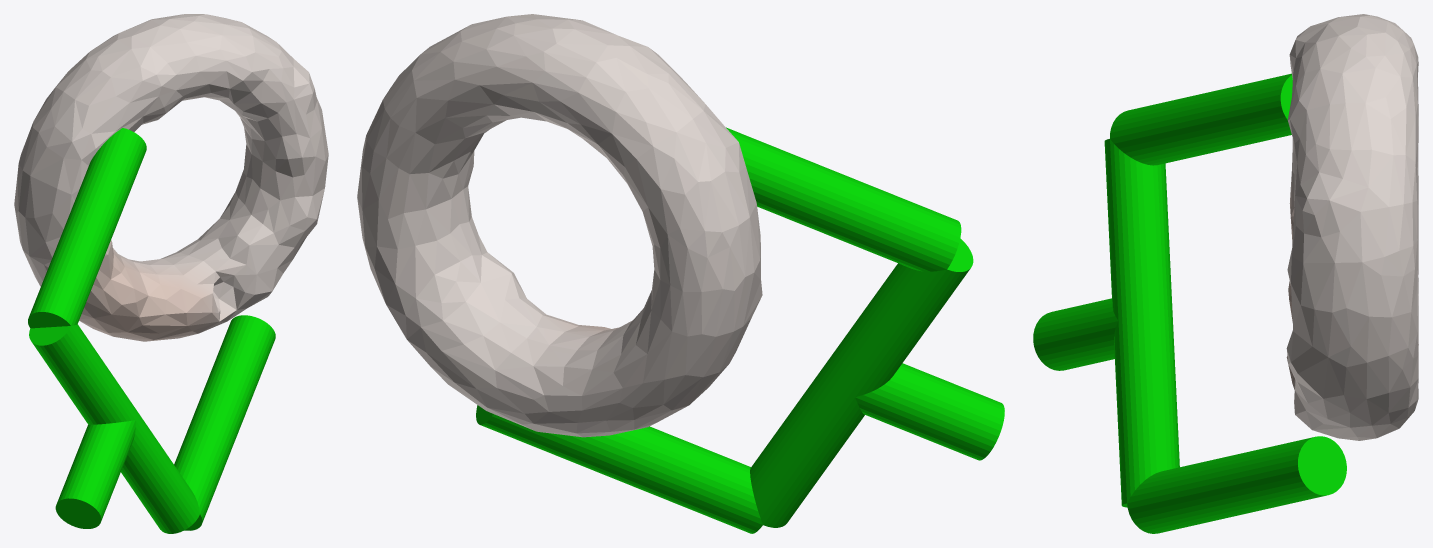
File: round_000_trial_000.obj
3 views of the same model, side by side, from view 1: azimuth 30°, elevation 25°; view 2: azimuth 150°, elevation 25°; view 3: azimuth 270°, elevation 25° (orthographic). The views are drawn at different scales.
Parts seen in each view (by area): view 1: geometry_0, geometry_1; view 2: geometry_0, geometry_1; view 3: geometry_0, geometry_1.
Part boxes in pixels (left/top/right/bottom): geometry_0: left=14, top=14, right=328, bottom=341; geometry_1: left=28, top=128, right=275, bottom=533; geometry_0: left=357, top=14, right=762, bottom=437; geometry_1: left=476, top=127, right=1004, bottom=533; geometry_0: left=1286, top=14, right=1418, bottom=440; geometry_1: left=1033, top=73, right=1346, bottom=533.
Size of the model in its own units: 0.0906 by 0.0995 by 0.0644.
